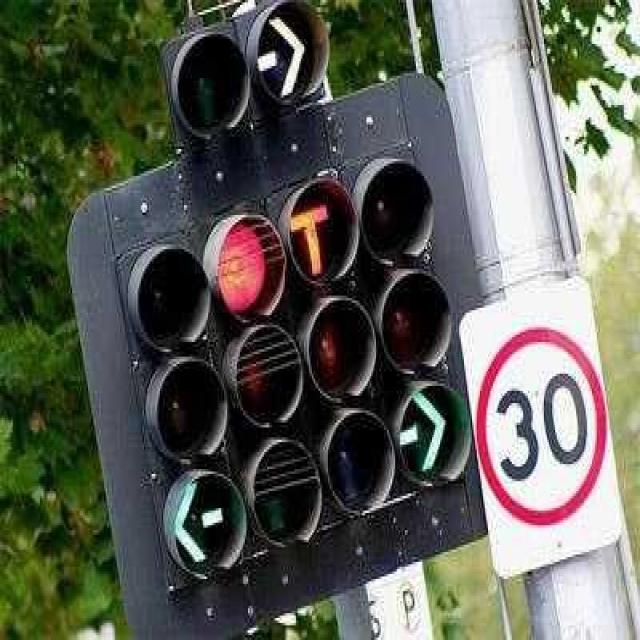Traffic Light -Red-: (210, 208, 307, 570), (274, 323, 275, 326)
